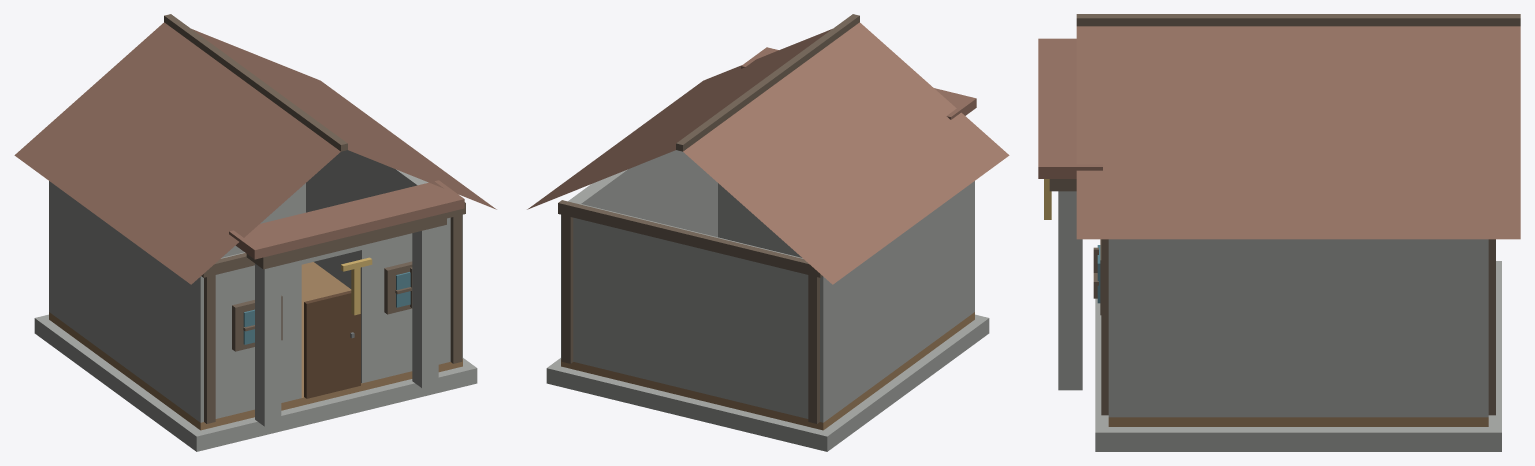
The model's file is hall.glb.
3 renders of one model, left to right at view 1: azimuth 30°, elevation 25°; view 2: azimuth 150°, elevation 25°; view 3: azimuth 270°, elevation 25°, orthographic. The views are drawn at different scales.
Parts seen in each view (by area): view 1: Player; view 2: Player; view 3: Player.
Part boxes in pixels (x1,y1,x2,y2): Player: (14,14,496,451); Player: (527,14,1009,451); Player: (1038,14,1520,451).
Size of the model in its own units: 5.84 by 5.08 by 6.35.
